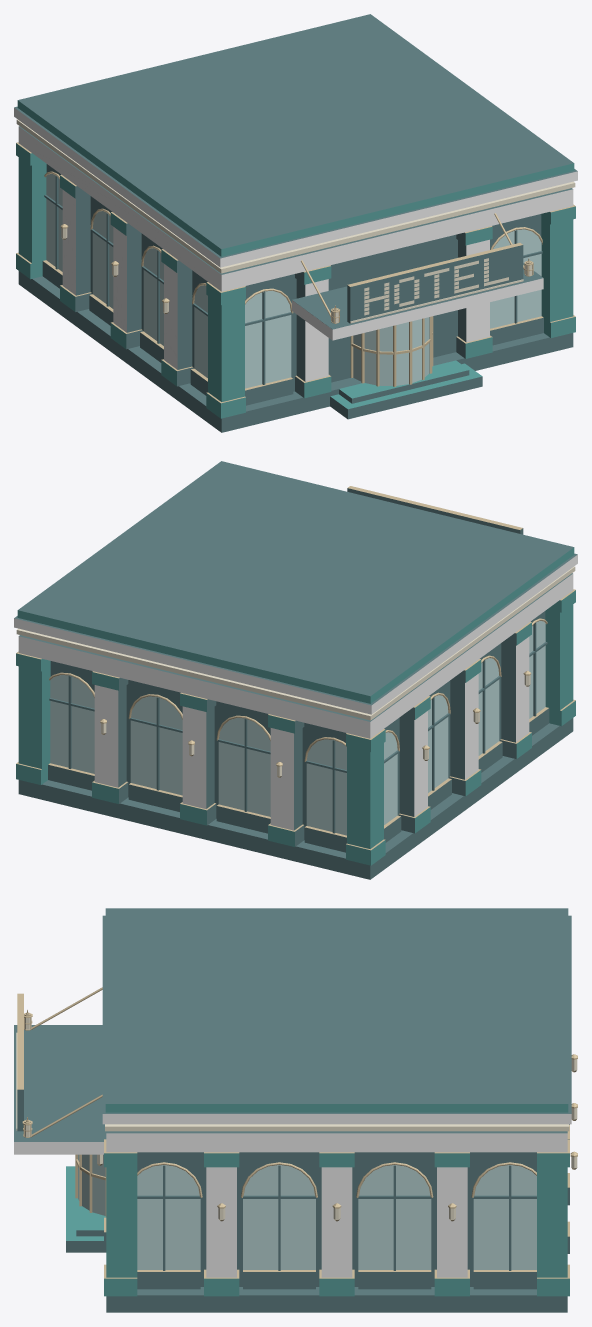
File: KC32__AD_Ext_Bldg_Base_Hotel_Red.glb
The picture shows the model from 3 angles, top to bottom: view 1: azimuth 30°, elevation 25°; view 2: azimuth 150°, elevation 25°; view 3: azimuth 270°, elevation 25°; orthographic projection. The views are drawn at different scales.
Parts seen in each view (by area): view 1: KC32_CORPS__AD_Ext_Bldg_Base_Hotel_Red, KC32_ACCENT__AD_Ext_Bldg_Base_Hotel_Red, KC32_VITRAGE__AD_Ext_Bldg_Base_Hotel_Red, KC32_LUMIERE__AD_Ext_Bldg_Base_Hotel_Red, KC32_BRONZE__AD_Ext_Bldg_Base_Hotel_Red; view 2: KC32_CORPS__AD_Ext_Bldg_Base_Hotel_Red, KC32_ACCENT__AD_Ext_Bldg_Base_Hotel_Red, KC32_VITRAGE__AD_Ext_Bldg_Base_Hotel_Red, KC32_LUMIERE__AD_Ext_Bldg_Base_Hotel_Red, KC32_BRONZE__AD_Ext_Bldg_Base_Hotel_Red; view 3: KC32_CORPS__AD_Ext_Bldg_Base_Hotel_Red, KC32_VITRAGE__AD_Ext_Bldg_Base_Hotel_Red, KC32_ACCENT__AD_Ext_Bldg_Base_Hotel_Red, KC32_BRONZE__AD_Ext_Bldg_Base_Hotel_Red, KC32_LUMIERE__AD_Ext_Bldg_Base_Hotel_Red.
Boxes of the visible parts, left/top/right/bottom form: KC32_CORPS__AD_Ext_Bldg_Base_Hotel_Red: left=14, top=14, right=577, bottom=432; KC32_ACCENT__AD_Ext_Bldg_Base_Hotel_Red: left=14, top=107, right=577, bottom=381; KC32_VITRAGE__AD_Ext_Bldg_Base_Hotel_Red: left=46, top=174, right=541, bottom=388; KC32_LUMIERE__AD_Ext_Bldg_Base_Hotel_Red: left=16, top=119, right=575, bottom=323; KC32_BRONZE__AD_Ext_Bldg_Base_Hotel_Red: left=16, top=142, right=575, bottom=403; KC32_CORPS__AD_Ext_Bldg_Base_Hotel_Red: left=14, top=461, right=577, bottom=879; KC32_ACCENT__AD_Ext_Bldg_Base_Hotel_Red: left=14, top=554, right=577, bottom=830; KC32_VITRAGE__AD_Ext_Bldg_Base_Hotel_Red: left=50, top=621, right=545, bottom=835; KC32_LUMIERE__AD_Ext_Bldg_Base_Hotel_Red: left=16, top=566, right=575, bottom=776; KC32_BRONZE__AD_Ext_Bldg_Base_Hotel_Red: left=16, top=486, right=575, bottom=850; KC32_CORPS__AD_Ext_Bldg_Base_Hotel_Red: left=14, top=908, right=571, bottom=1312; KC32_VITRAGE__AD_Ext_Bldg_Base_Hotel_Red: left=78, top=1154, right=536, bottom=1269; KC32_ACCENT__AD_Ext_Bldg_Base_Hotel_Red: left=14, top=1114, right=571, bottom=1277; KC32_BRONZE__AD_Ext_Bldg_Base_Hotel_Red: left=17, top=987, right=577, bottom=1278; KC32_LUMIERE__AD_Ext_Bldg_Base_Hotel_Red: left=16, top=1017, right=577, bottom=1219.
Size of the model in its own units: 12.53 by 6 by 14.67.
